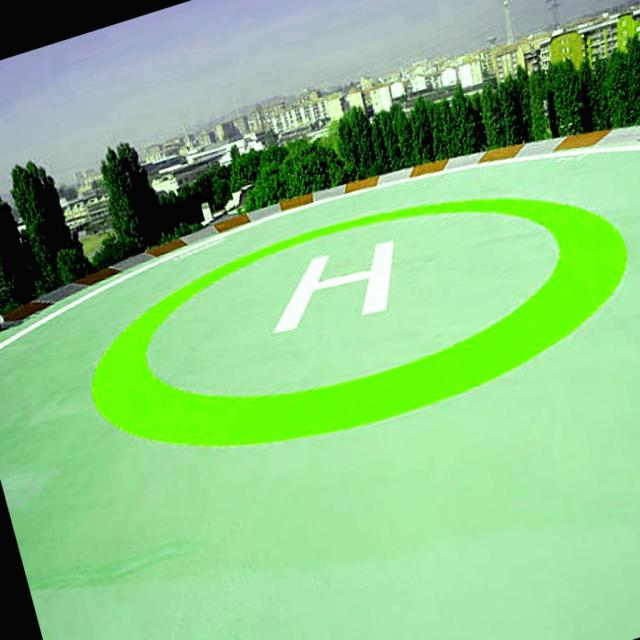helipad: (86, 188, 634, 453)
